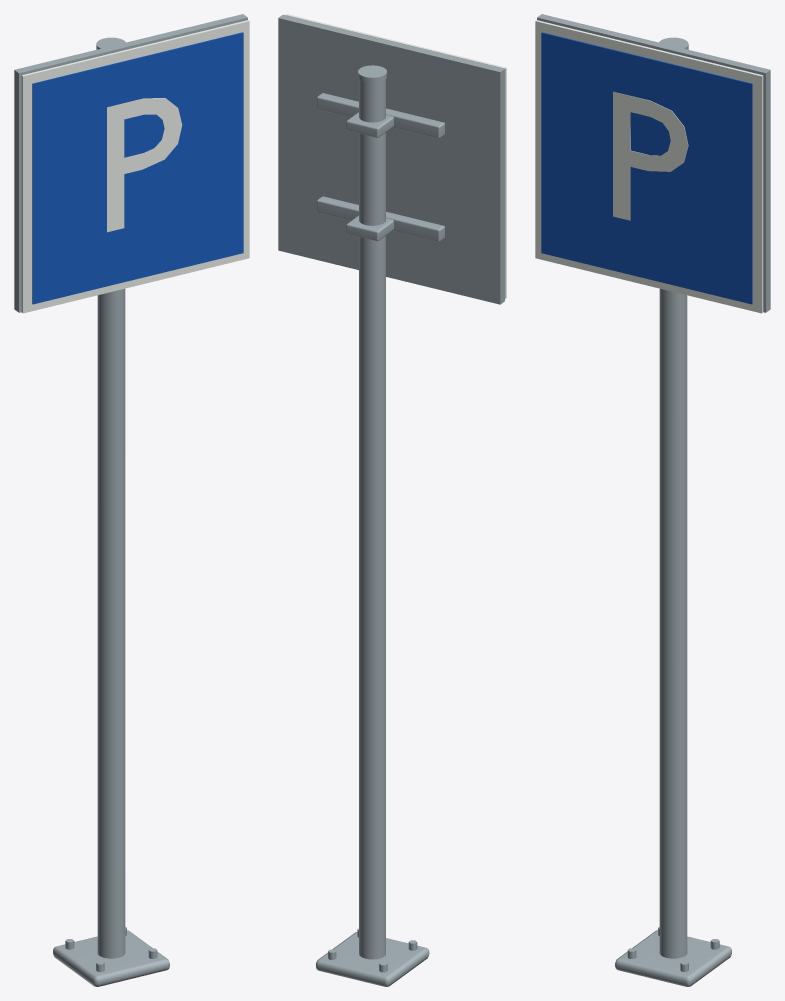
Rendered from DS_Sign_Parking.fbx.
3 renders of one model, left to right at view 1: azimuth 30°, elevation 25°; view 2: azimuth 150°, elevation 25°; view 3: azimuth 330°, elevation 25°, orthographic. The views are drawn at different scales.
Parts seen in each view (by area): view 1: Face_Field.008, Post.008, Face_Border.008, Legend_P, Plate_Back.008, BasePlate.008; view 2: Plate_Back.008, Post.008, BasePlate.008, RearRail.016, RearRail.017, Face_Border.008, PostClamp.016, PostClamp.017; view 3: Face_Field.008, Post.008, Face_Border.008, Legend_P, Plate_Back.008, BasePlate.008.
Part boxes in pixels (x1,y1,x2,y2): Face_Field.008: (32,32,243,304); Post.008: (97,288,125,958); Face_Border.008: (21,20,249,313); Legend_P: (107,98,182,232); Plate_Back.008: (14,14,247,312); BasePlate.008: (53,930,169,986); Plate_Back.008: (278,14,504,304); Post.008: (359,79,385,959); BasePlate.008: (316,932,429,986); RearRail.016: (316,196,444,241); RearRail.017: (316,93,444,138); Face_Border.008: (285,14,506,298); PostClamp.016: (346,215,393,241); PostClamp.017: (346,112,393,137); Face_Field.008: (541,32,752,304); Post.008: (659,288,687,958); Face_Border.008: (535,20,763,313); Legend_P: (613,91,688,220); Plate_Back.008: (537,14,770,312); BasePlate.008: (615,930,731,986).
Size of the model in its own units: 72 by 281 by 27.27.
